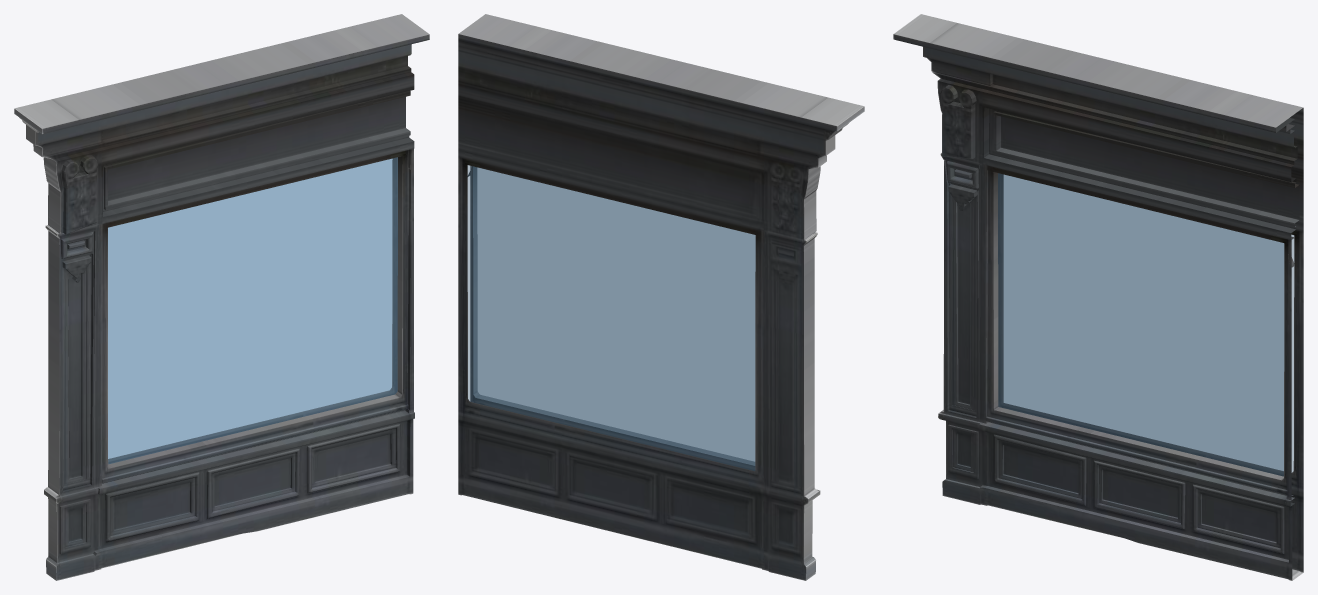
The model's file is SM_MetalDisplay.glb.
3 views of the same model, side by side, from view 1: azimuth 30°, elevation 25°; view 2: azimuth 150°, elevation 25°; view 3: azimuth 330°, elevation 25° (orthographic). The views are drawn at different scales.
Visible parts, largest first — view 1: SM_MetalDisplay; view 2: SM_MetalDisplay; view 3: SM_MetalDisplay.
Boxes of the visible parts, x1=… form: SM_MetalDisplay: x1=14, y1=14, x2=429, y2=580; SM_MetalDisplay: x1=458, y1=14, x2=864, y2=580; SM_MetalDisplay: x1=893, y1=14, x2=1303, y2=580.
Bounding box in the file's own units: 7.02 × 8.18 × 0.8732.
Materials: 2 (1 with a texture image).
